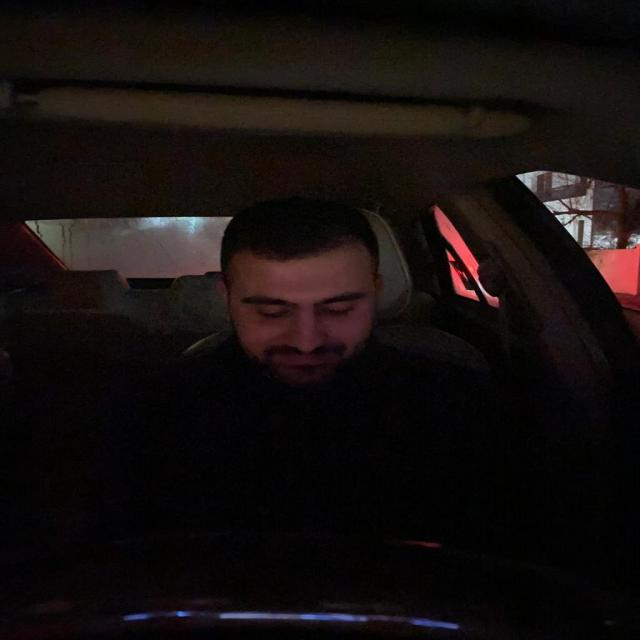drowsy: (204, 191, 398, 393)
